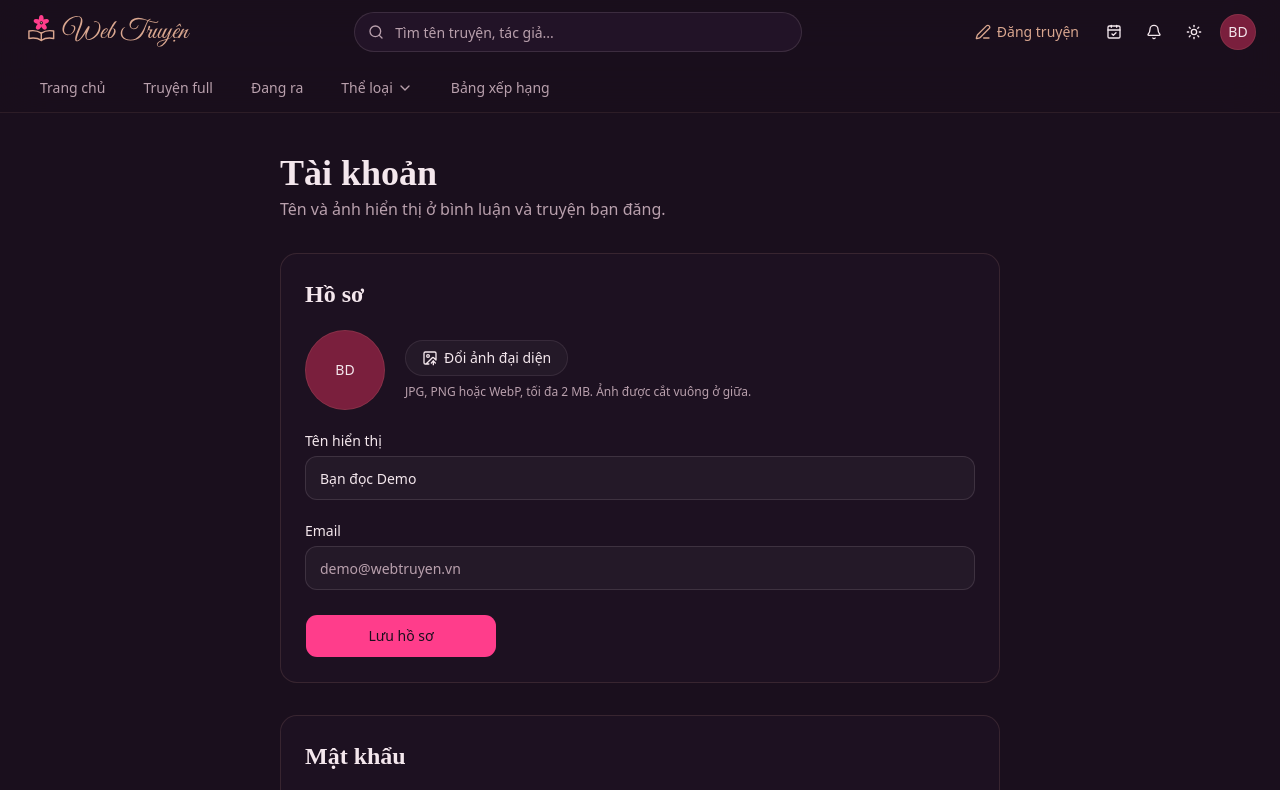
đổi tên hiển thị: header cập nhật ngay
Replace the text in the field labelled "Tên hiển thị" with "Mèo Đọc Truyện": (640, 478) [305, 456, 975, 500]
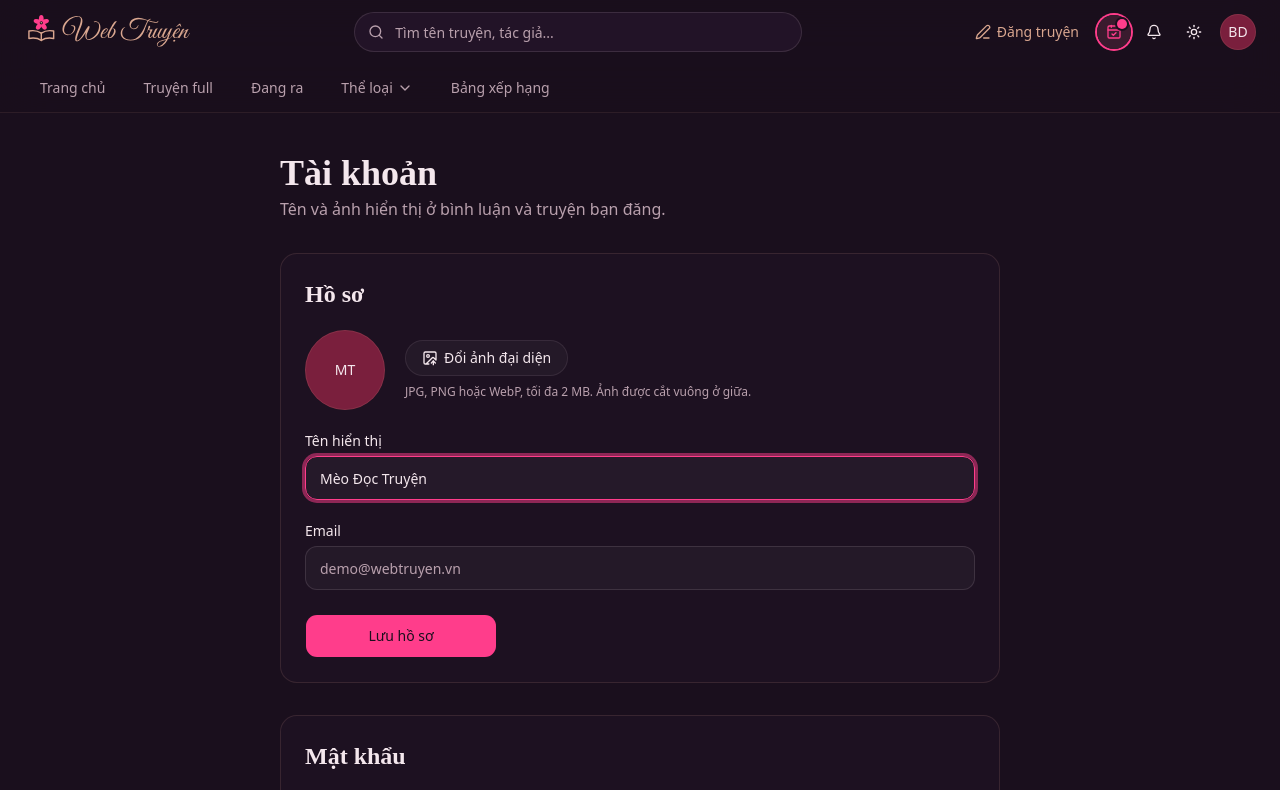
Click the button "Lưu hồ sơ": click(401, 636) [305, 614, 497, 658]
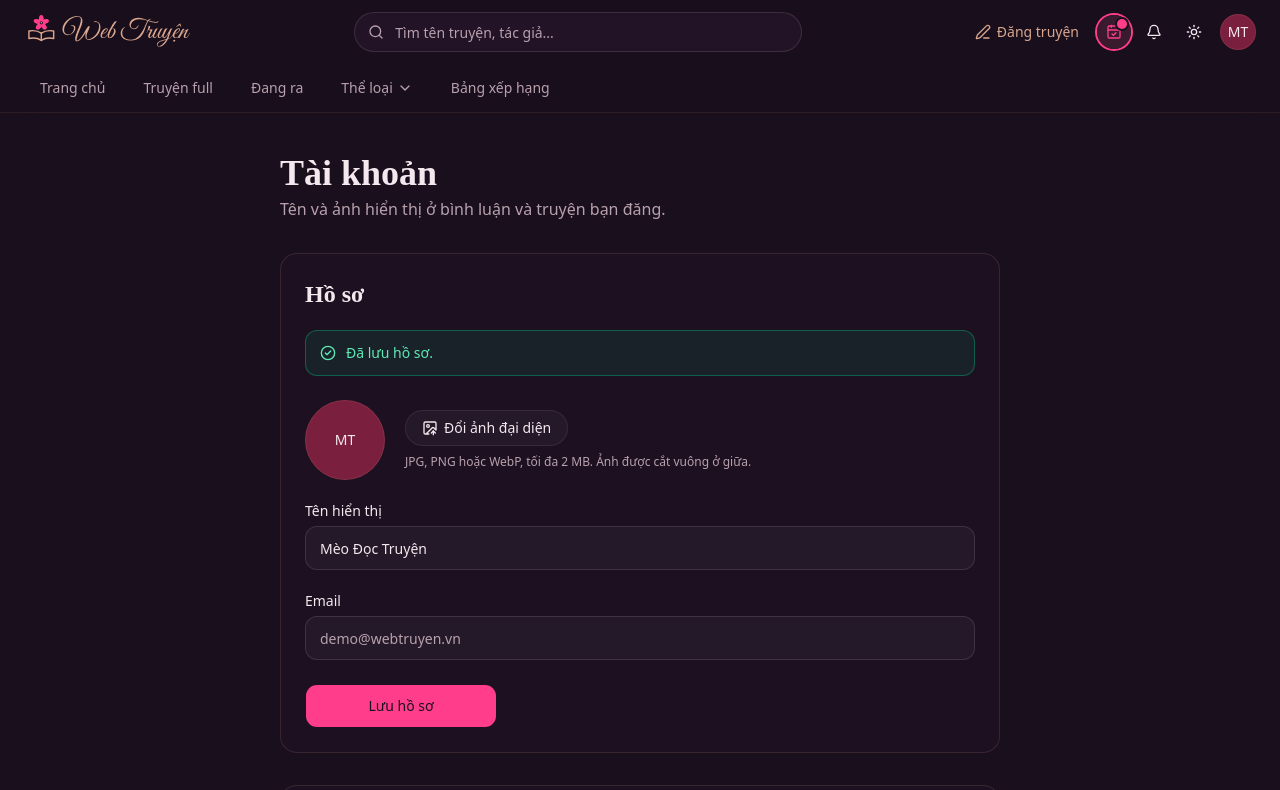
Expected: the text "Đã lưu hồ sơ." is shown, [346, 343, 433, 363]
Expected: the button with aria-label "Tài khoản của Mèo Đọc Truyện" is shown, [1220, 14, 1256, 50]
